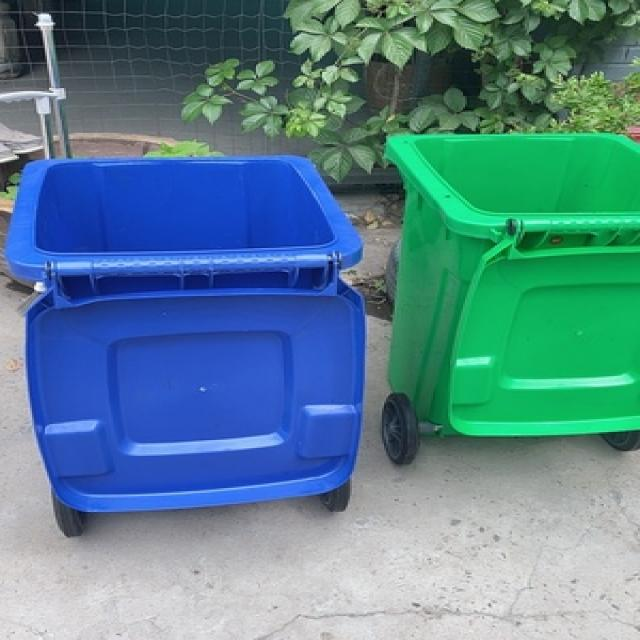ash bin: (11, 150, 371, 540), (373, 128, 638, 461)
